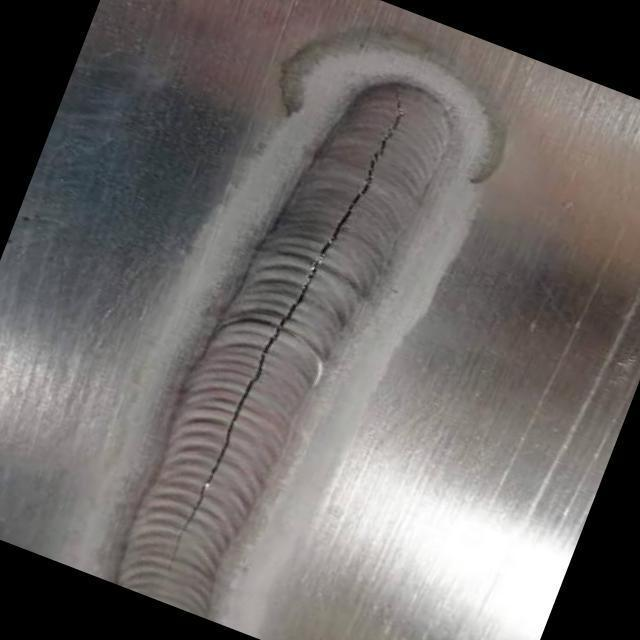defect: (163, 80, 413, 579)
